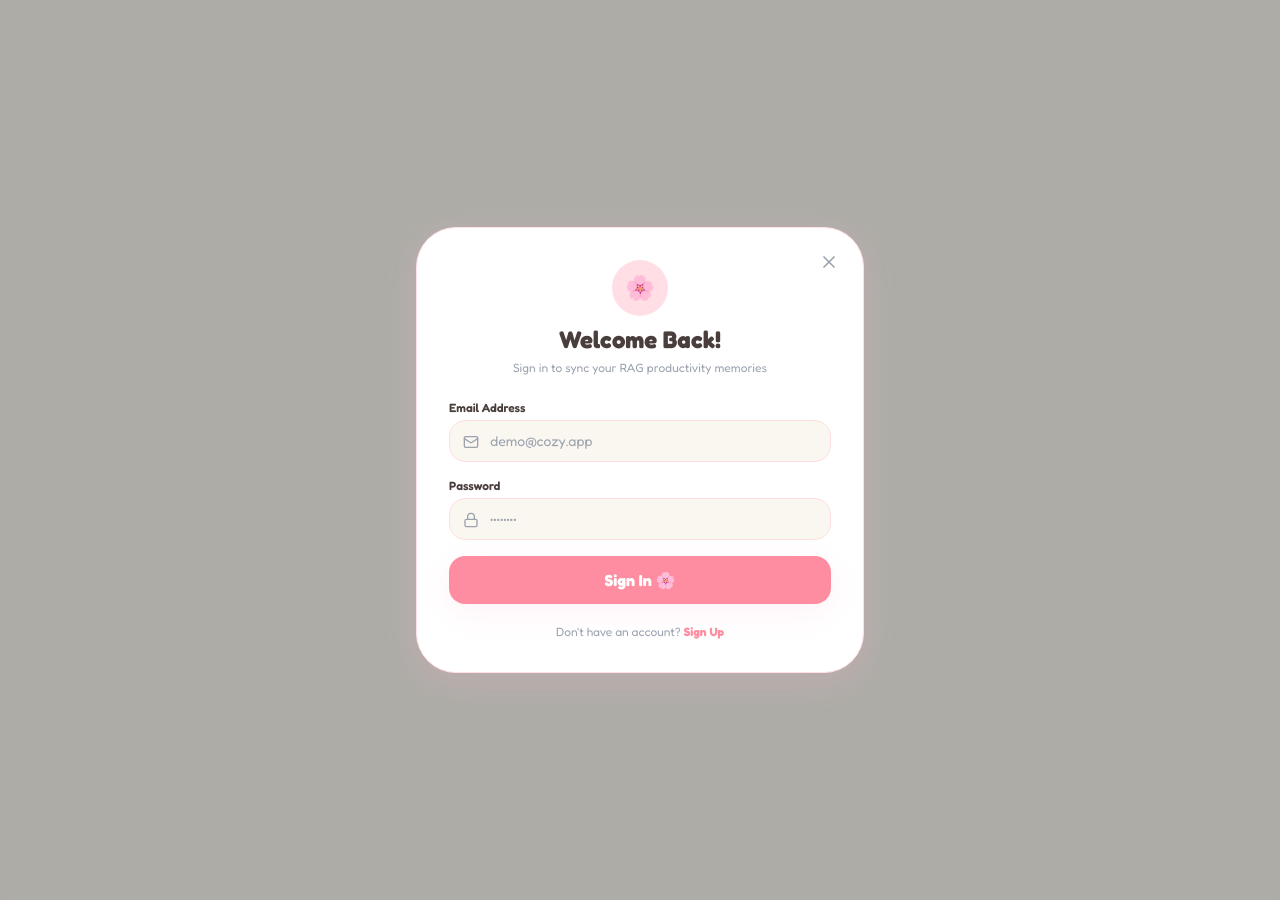
Test: AuthModal › displays the error message when login fails
In the field labelled "Email Address": (640, 441) x1=449 y1=420 x2=831 y2=462, type "bad@dev.io"
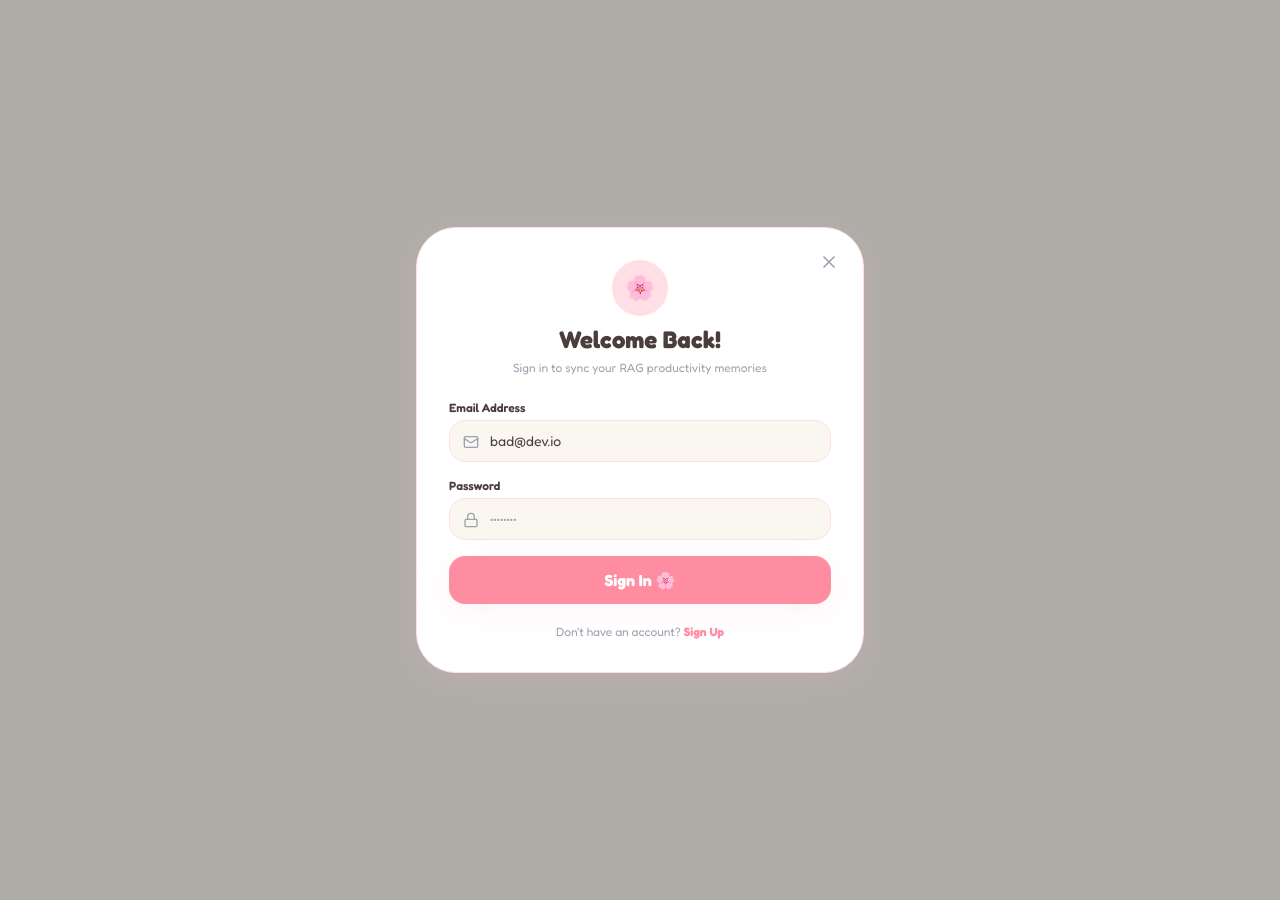
In the password field labelled "Password": (640, 519) x1=449 y1=498 x2=831 y2=540, type "wrongpass"
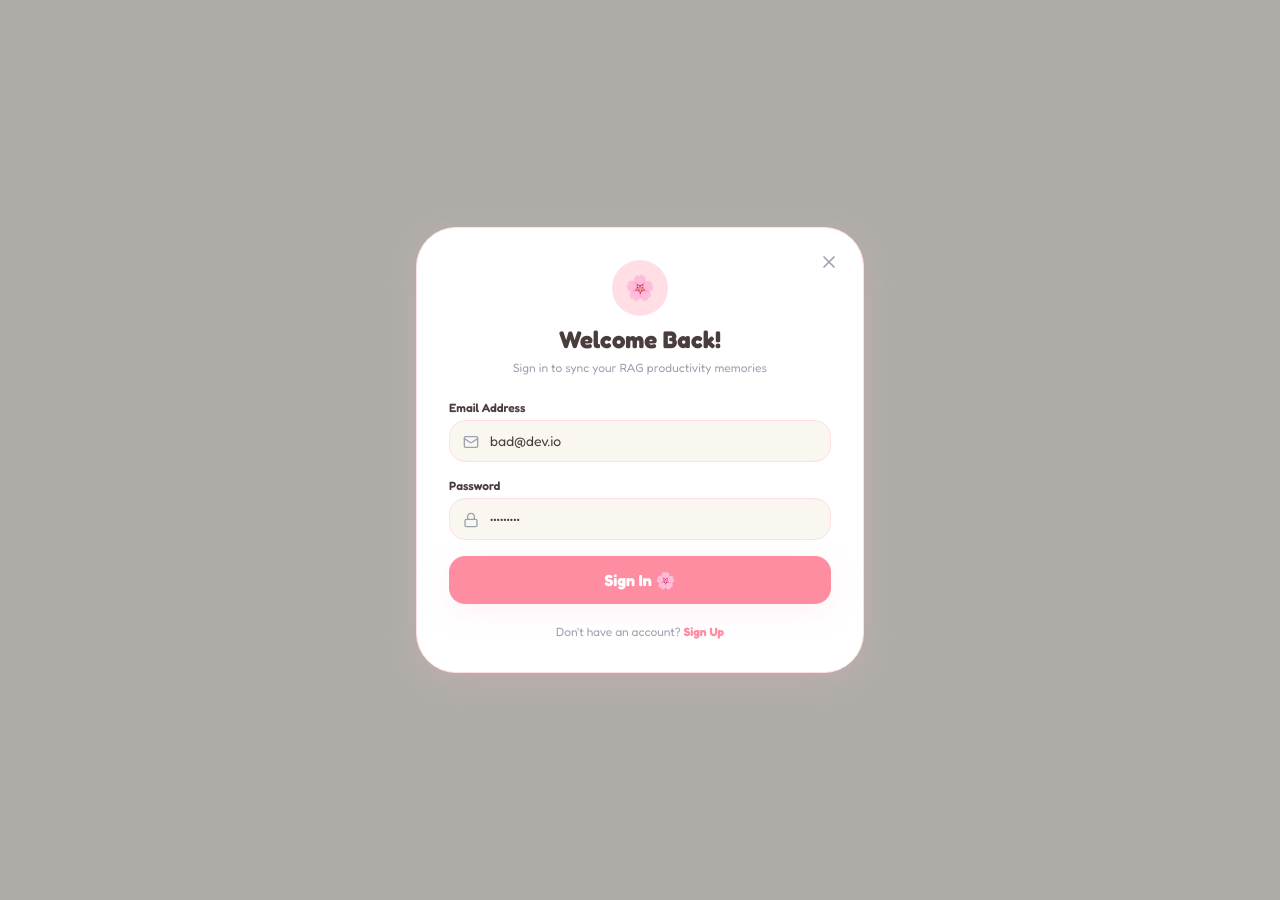
Click the button "Sign In 🌸": (640, 580) x1=449 y1=556 x2=831 y2=604
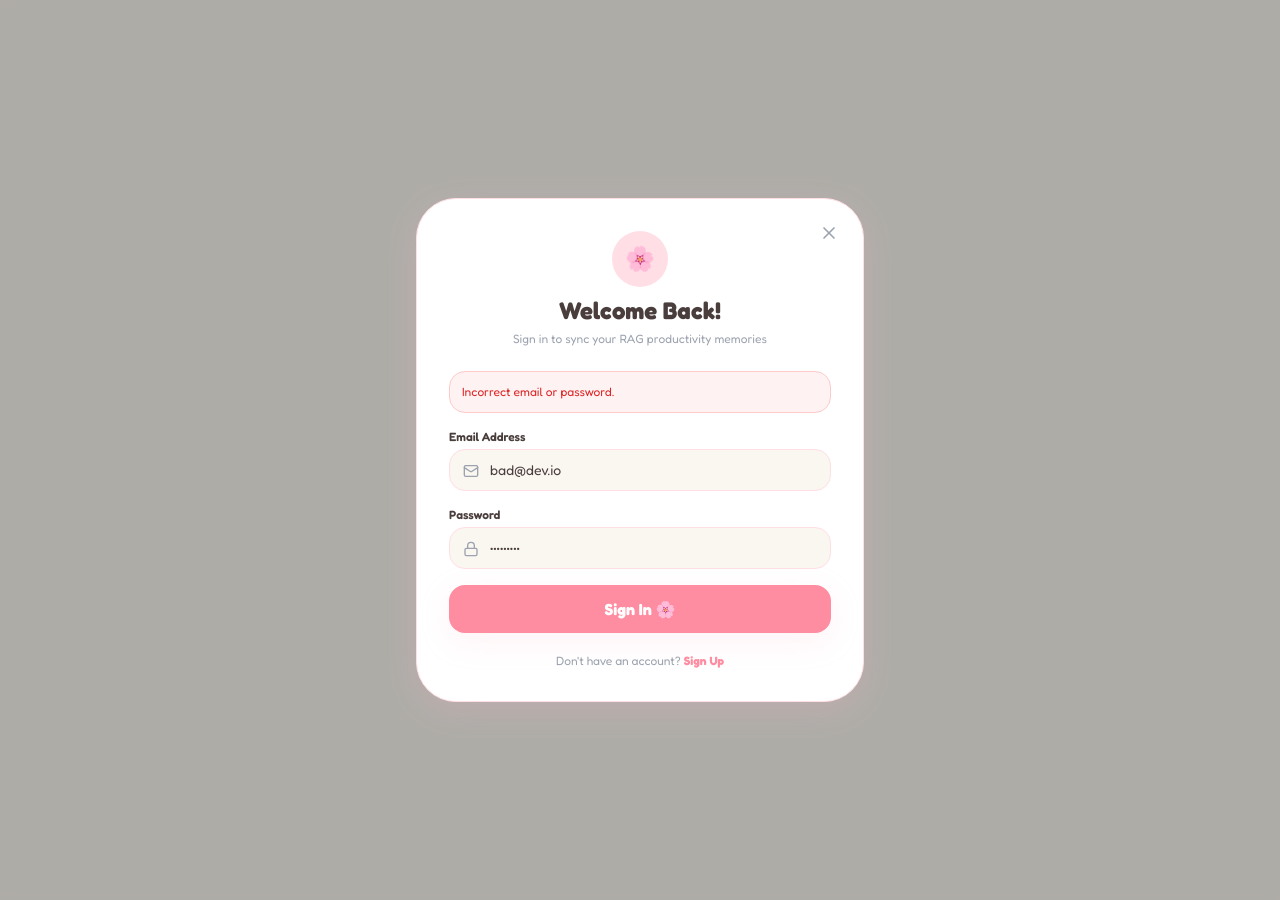
Expected: the text "Incorrect email or password." is shown, x1=449 y1=371 x2=831 y2=413
